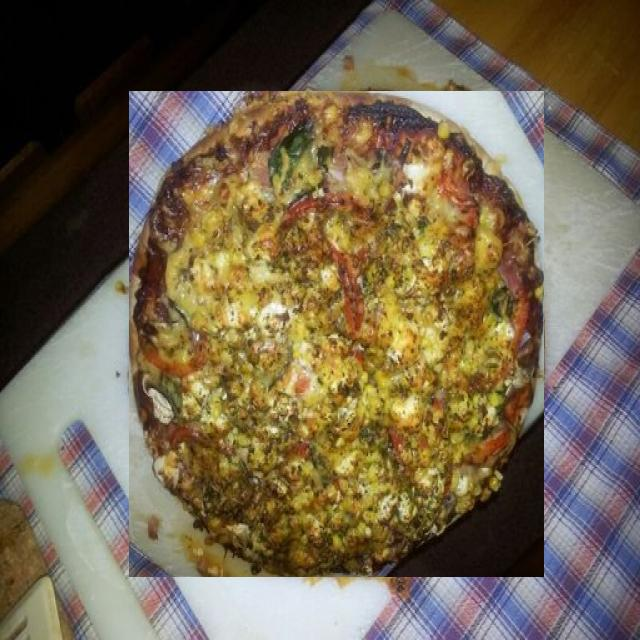pizza: (129, 91, 544, 577)
